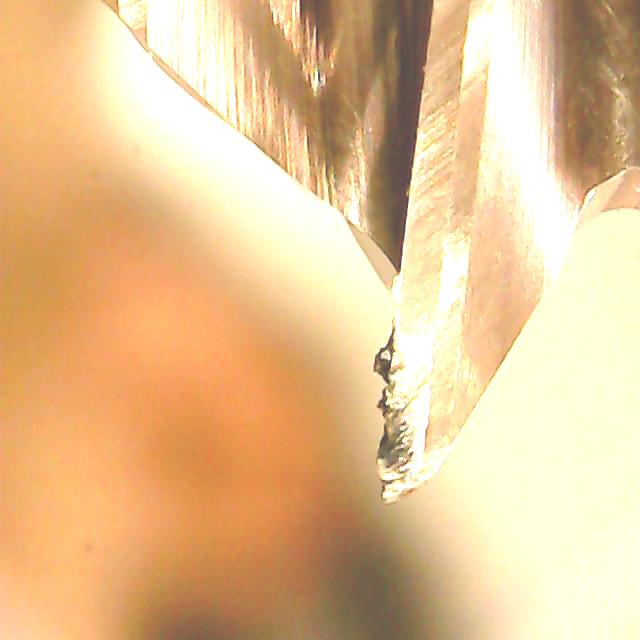Tool-wear-class-1: (361, 162, 472, 515)
